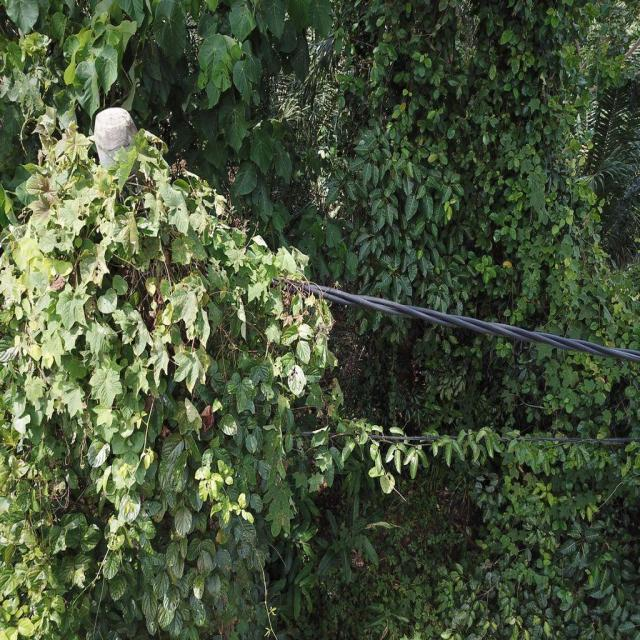critical vegetation: (1, 101, 340, 635)
